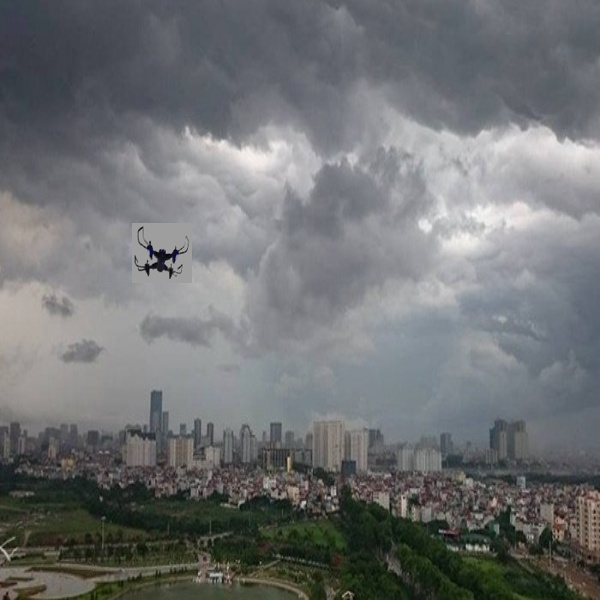drone: (129, 222, 190, 284)
